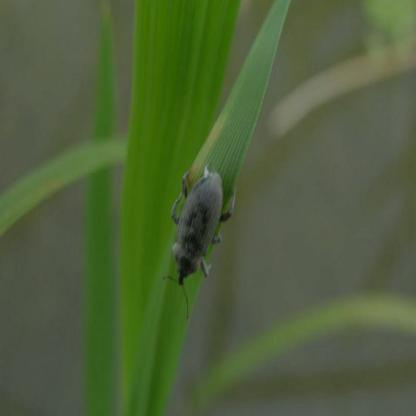rice-bug: (166, 166, 234, 284)
